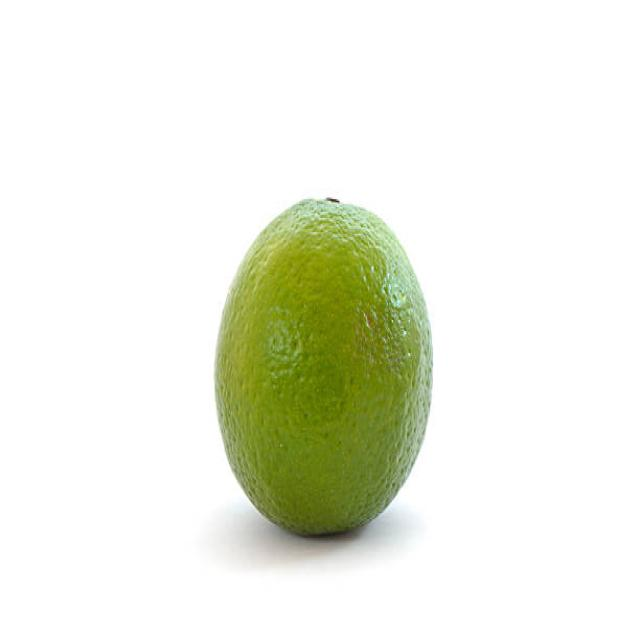Unripe: (214, 194, 433, 538)
